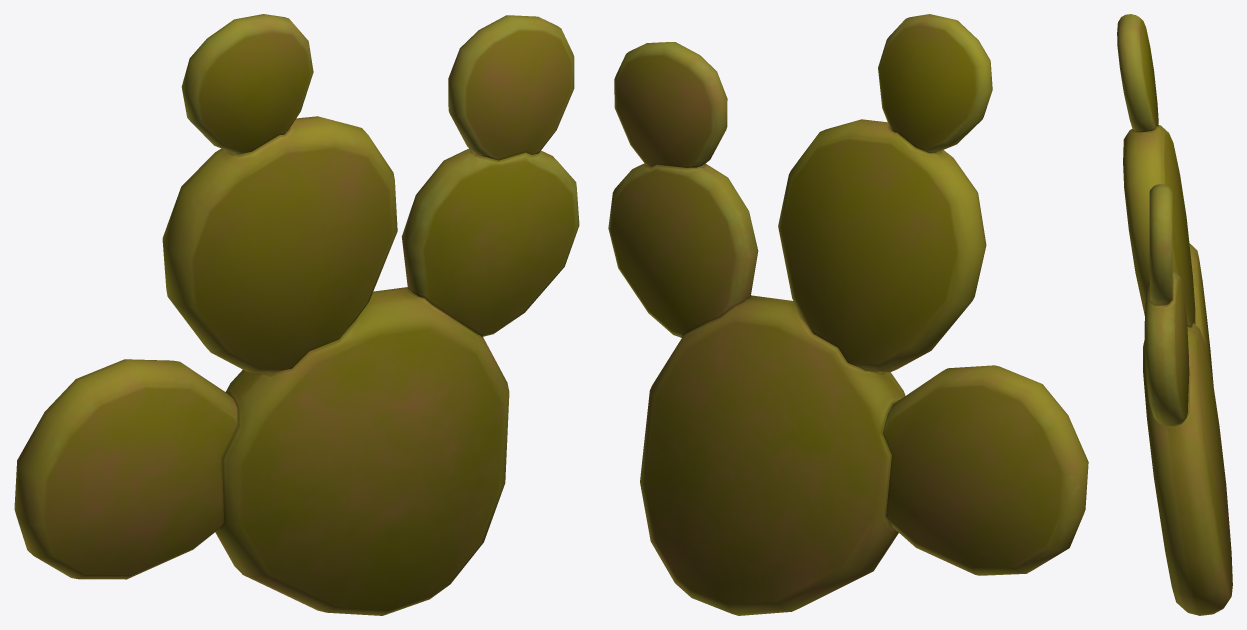
File: cactus_1.fbx
The picture shows the model from 3 angles, left to right: view 1: azimuth 30°, elevation 25°; view 2: azimuth 150°, elevation 25°; view 3: azimuth 270°, elevation 25°; orthographic projection. The views are drawn at different scales.
Parts seen in each view (by area): view 1: Cube.2230; view 2: Cube.2230; view 3: Cube.2230.
Boxes of the visible parts, left/top/right/bottom form: Cube.2230: left=14, top=14, right=579, bottom=615; Cube.2230: left=608, top=14, right=1088, bottom=615; Cube.2230: left=1117, top=14, right=1232, bottom=615.
Bounding box in the file's own units: 2.1 × 2.49 × 0.5037.
